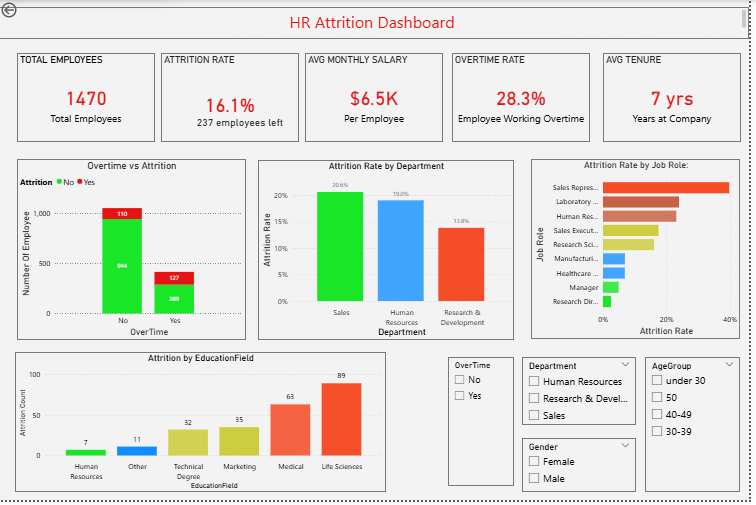

Layout of this report page (visuals, bound fields, positions):
{"tool":"powerbi","page":{"name":"Overview","canvas":[1500,1000],"ordinal":0},"visuals":[{"type":"card","title":"AVG MONTHLY SALARY","fields":{"Values":["HR-Employee-Attrition.Avg Monthly Income"]},"box":[612,106,276,178],"z":1000},{"type":"card","title":"OVERTIME RATE","fields":{"Values":["HR-Employee-Attrition.Overtime Rate (%)"]},"box":[906,106,276,178],"z":2000},{"type":"card","title":"AVG TENURE","fields":{"Values":["HR-Employee-Attrition.Average Tenure (Years)"]},"box":[1208,106,276,178],"z":3000},{"type":"clusteredColumnChart","fields":{"Category":["HR-Employee-Attrition.Department"],"Y":["HR-Employee-Attrition.Attrition Rate"]},"box":[518,320,512,360],"z":4000},{"type":"textbox","box":[0,14,1500,64],"z":7000},{"type":"barChart","title":"Attrition Rate by Job Role:","fields":{"Y":["HR-Employee-Attrition.Attrition Rate"],"Category":["HR-Employee-Attrition.JobRole"]},"box":[1064,318,418,360],"z":8000},{"type":"actionButton","box":[0,0,100,40],"z":8001},{"type":"card","title":"TOTAL EMPLOYEES","fields":{"Values":["HR-Employee-Attrition.Total Employees"]},"box":[36,106,276,178],"z":8002},{"type":"card","title":"ATTRITION RATE","fields":{"Values":["HR-Employee-Attrition.Attrition Rate"]},"box":[324,106,276,178],"z":8004},{"type":"card","fields":{"Values":["HR-Employee-Attrition.Attrition Employees Text"]},"box":[381.3,221.7,199.9,47],"z":8005},{"type":"columnChart","title":"Overtime vs Attrition","fields":{"Category":["HR-Employee-Attrition.OverTime"],"Series":["HR-Employee-Attrition.AttritionFlag"],"Y":["CountNonNull(HR-Employee-Attrition.EmployeeNumber)"]},"box":[36,318,458,362],"z":8007},{"type":"slicer","fields":{"Values":["HR-Employee-Attrition.Department"]},"box":[1046,714,228,136],"z":8010},{"type":"slicer","fields":{"Values":["HR-Employee-Attrition.Gender"]},"box":[1046,876,228,108],"z":8011},{"type":"slicer","fields":{"Values":["HR-Employee-Attrition.AgeGroup"]},"box":[1292,714,190,270],"z":8012},{"type":"slicer","fields":{"Values":["HR-Employee-Attrition.OverTime"]},"box":[898,714,132,258],"z":8013},{"type":"columnChart","title":"Attrition  by EducationField","fields":{"Category":["HR-Employee-Attrition.EducationField"],"Y":["HR-Employee-Attrition.Attrition Count"]},"box":[32,704,742,280],"z":8014}]}

Visuals, with their boxes in screenshot pixels (x1, y1, x2, y2), scaled from the page's 1500x1000 canvas onto the 756x505 screenshot:
"AVG MONTHLY SALARY" card: (308,54,448,143)
"OVERTIME RATE" card: (457,54,596,143)
"AVG TENURE" card: (609,54,748,143)
clusteredColumnChart - HR-Employee-Attrition.Department x HR-Employee-Attrition.Attrition Rate: (261,162,519,343)
textbox: (0,7,755,39)
"Attrition Rate by Job Role:" barChart: (536,161,747,342)
actionButton: (0,0,50,20)
"TOTAL EMPLOYEES" card: (18,54,157,143)
"ATTRITION RATE" card: (163,54,302,143)
card - HR-Employee-Attrition.Attrition Employees Text: (192,112,293,136)
"Overtime vs Attrition" columnChart: (18,161,249,343)
slicer - HR-Employee-Attrition.Department: (527,361,642,429)
slicer - HR-Employee-Attrition.Gender: (527,442,642,497)
slicer - HR-Employee-Attrition.AgeGroup: (651,361,747,497)
slicer - HR-Employee-Attrition.OverTime: (453,361,519,491)
"Attrition  by EducationField" columnChart: (16,356,390,497)
